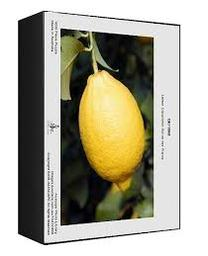lemon: (79, 70, 148, 192)
